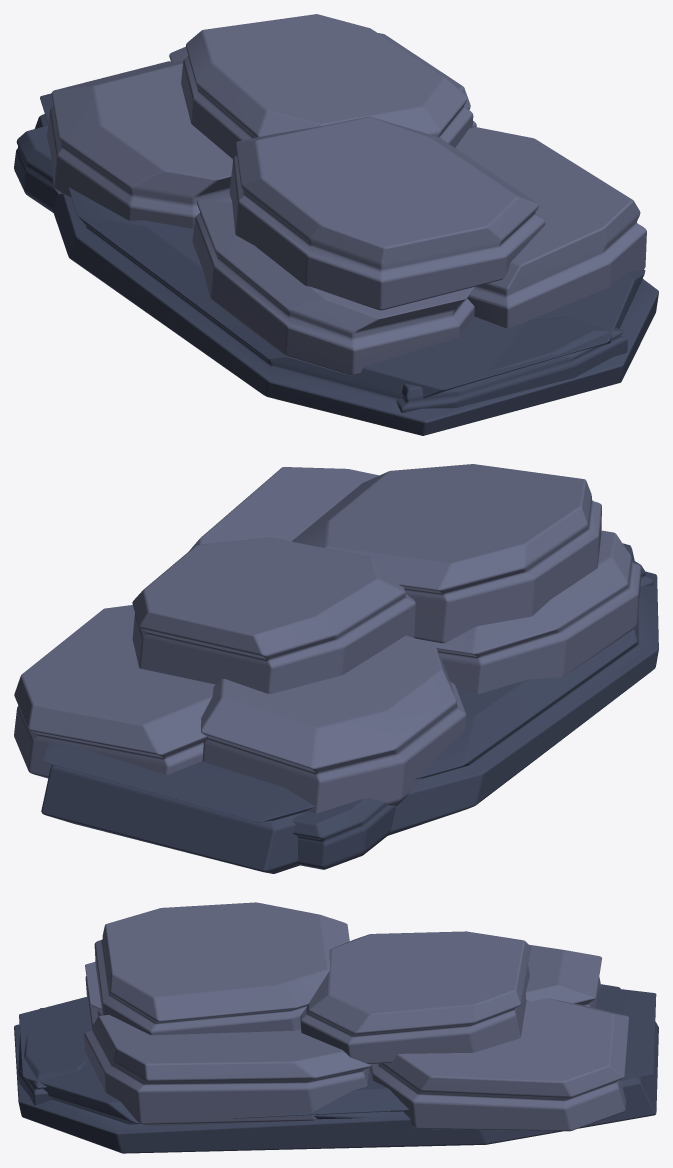
File: SM_CC_RockIsland_B.fbx
3 views of the same model, one above another, from view 1: azimuth 30°, elevation 25°; view 2: azimuth 150°, elevation 25°; view 3: azimuth 270°, elevation 25° (orthographic). The views are drawn at different scales.
Parts seen in each view (by area): view 1: SM_CC_RockIsland_B; view 2: SM_CC_RockIsland_B; view 3: SM_CC_RockIsland_B.
Boxes of the visible parts, left/top/right/bottom form: SM_CC_RockIsland_B: left=14, top=14, right=658, bottom=435; SM_CC_RockIsland_B: left=14, top=464, right=658, bottom=873; SM_CC_RockIsland_B: left=14, top=902, right=658, bottom=1153.
Bounding box in the file's own units: 4 × 6.99 × 1.6.
